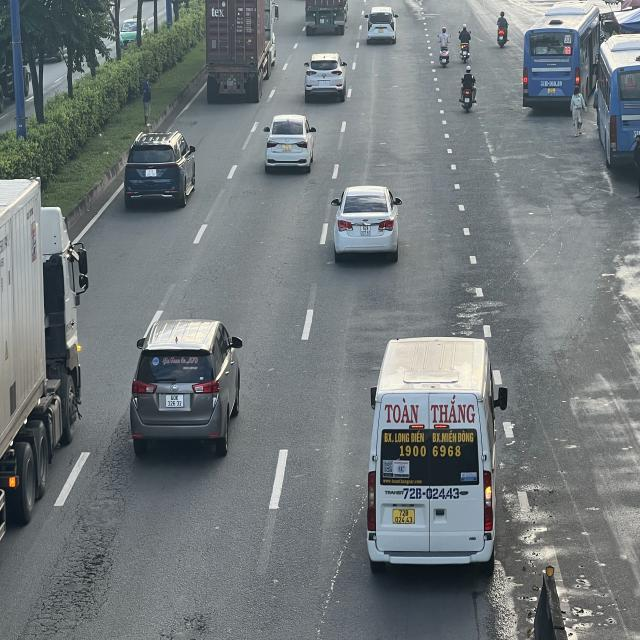car: (130, 318, 245, 454), (123, 130, 197, 207), (331, 185, 401, 261), (263, 114, 316, 172), (302, 52, 346, 102), (366, 5, 400, 44)
coach: (526, 13, 602, 106), (594, 33, 640, 169)
container: (0, 176, 85, 544), (203, 1, 278, 103), (302, 0, 349, 35)
van: (367, 333, 505, 570)
